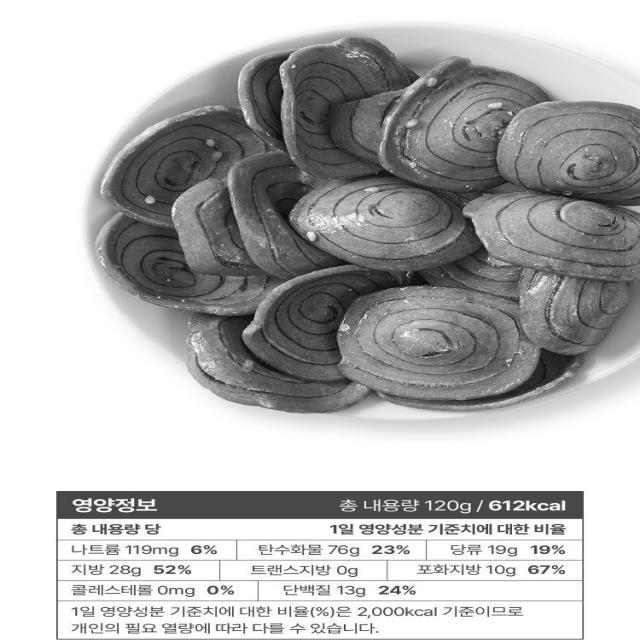Nutrition Label: (38, 481, 612, 640)
